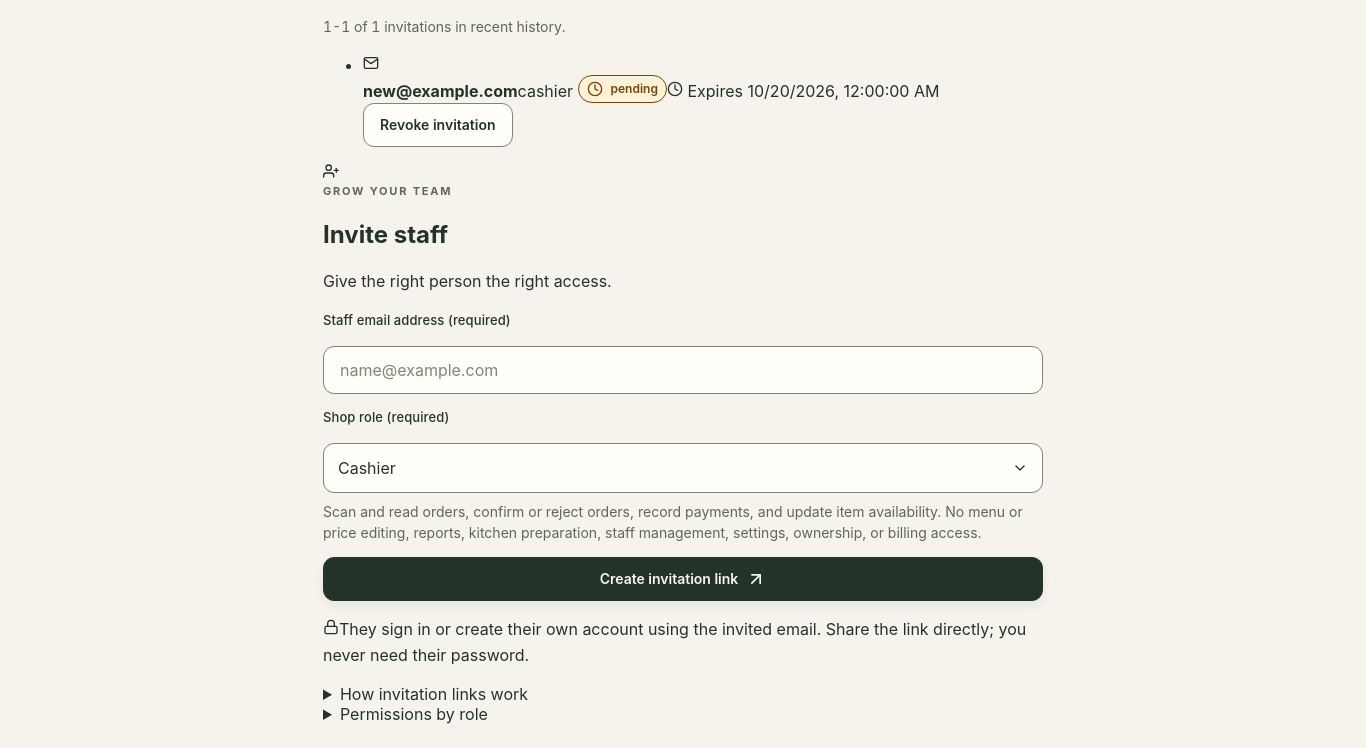
Test: creates a link for a normalized email and defaults to cashier
(page scrolled)
Step 1. Type " New@Example.com " into the field labelled "Staff email address" → (683, 370), box [323,346,1043,394]
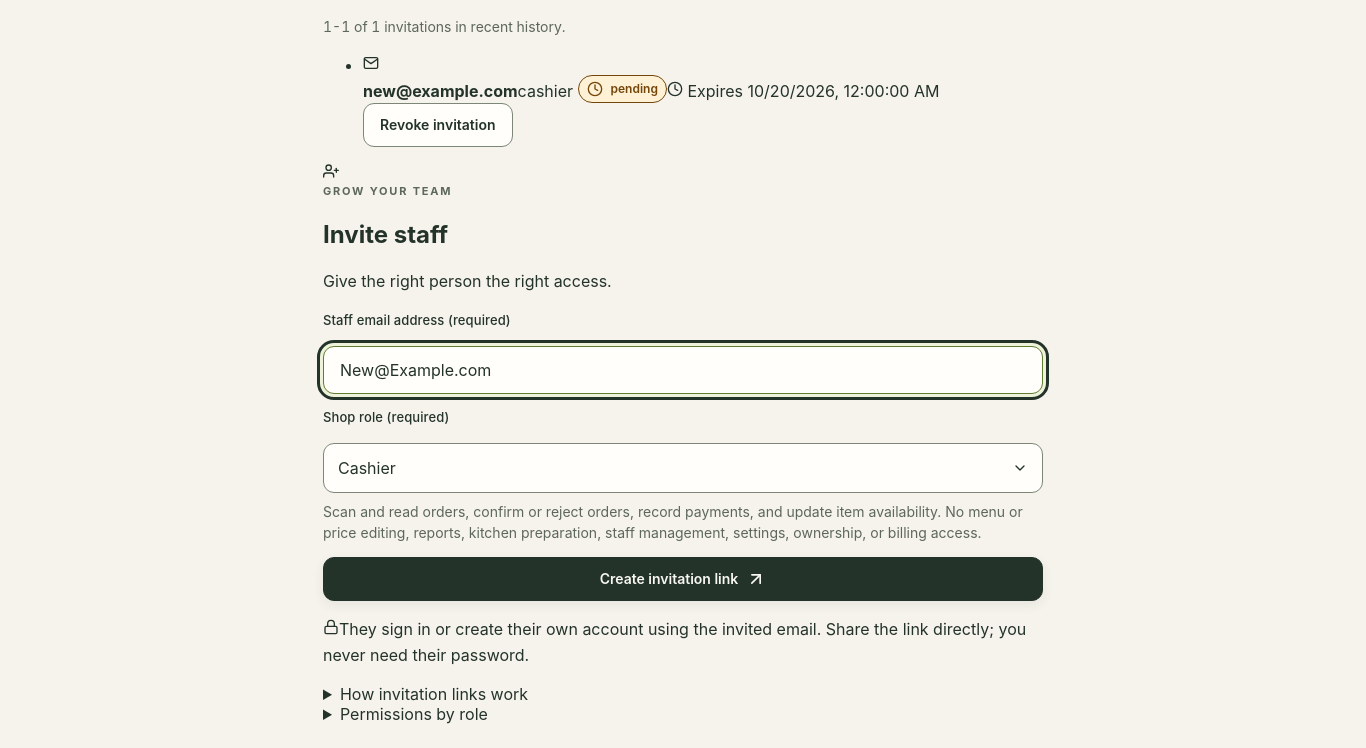
Step 2. Click the button "Create invitation link" → (683, 579), box [323,557,1043,601]
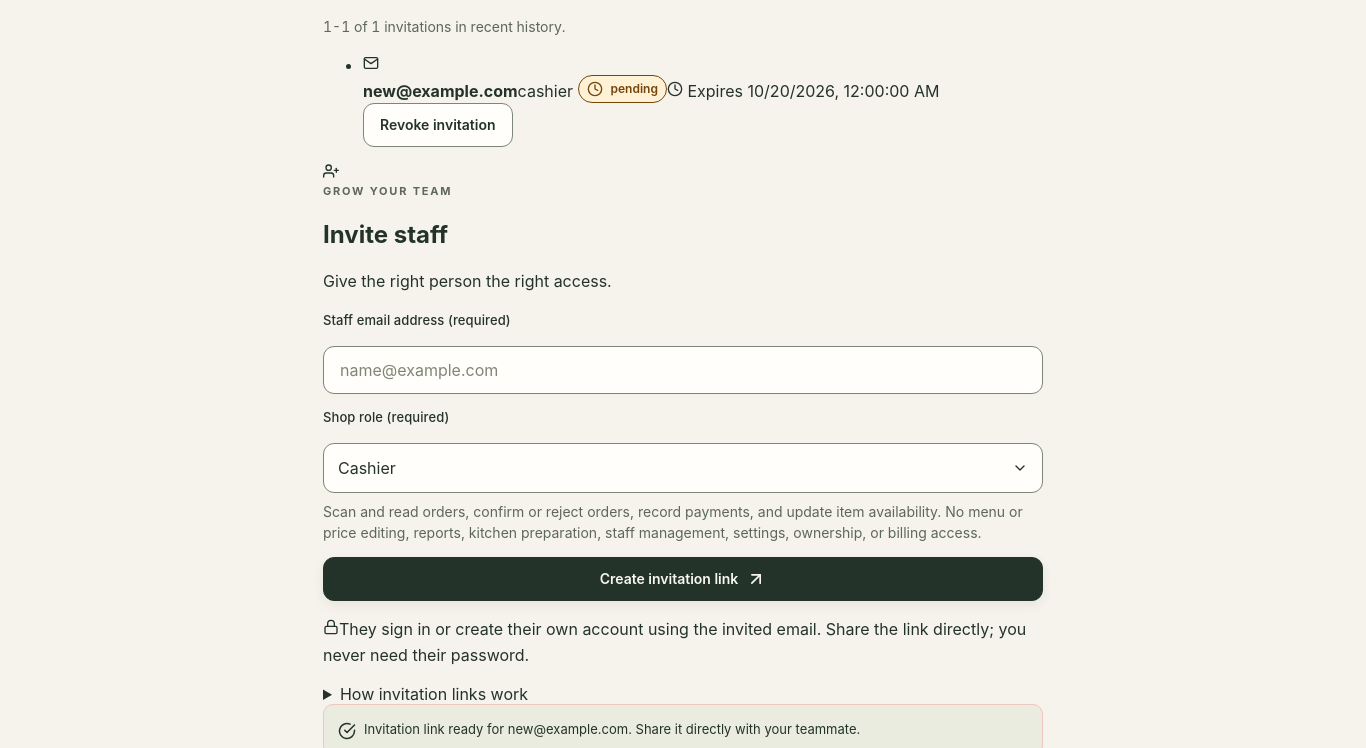
Step 3. Click the button "Revoke invitation" → (438, 124), box [363,102,512,146]
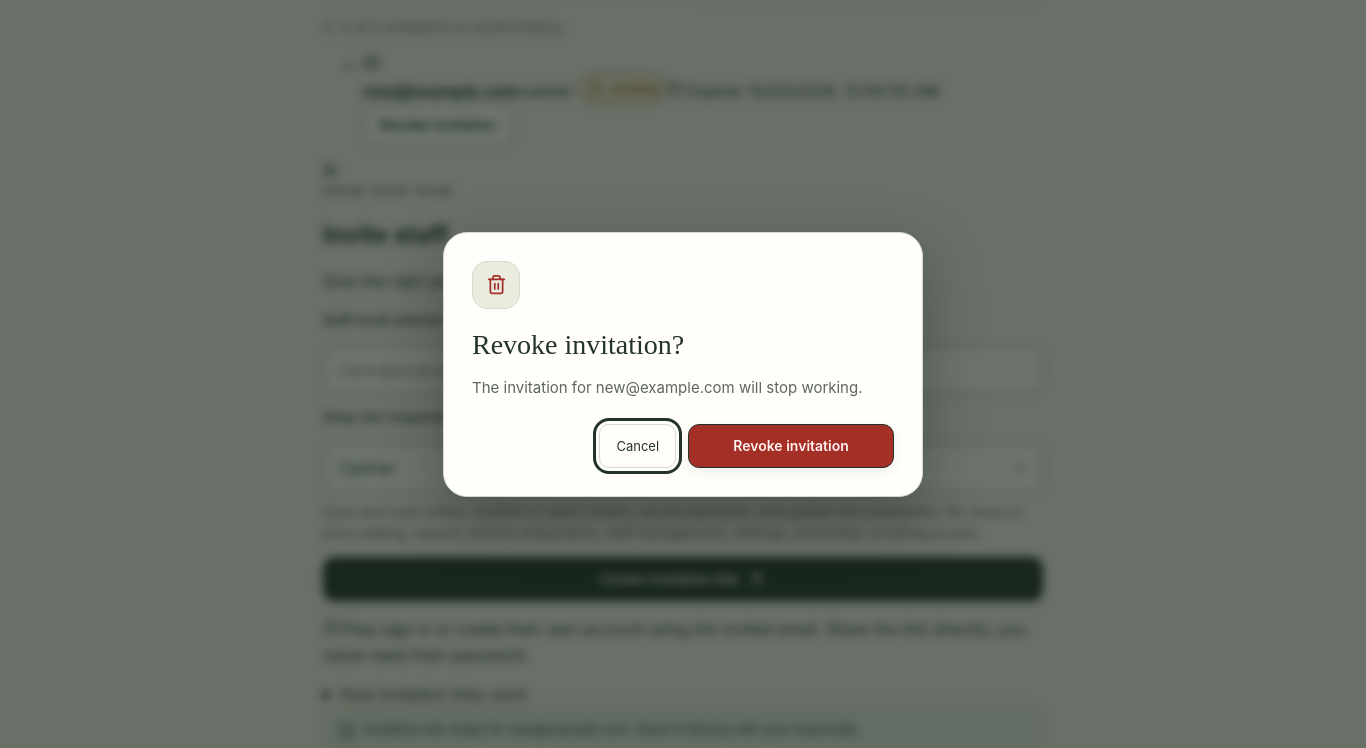
Step 4. Click the button "Revoke invitation" → (791, 446), box [688,424,894,468]
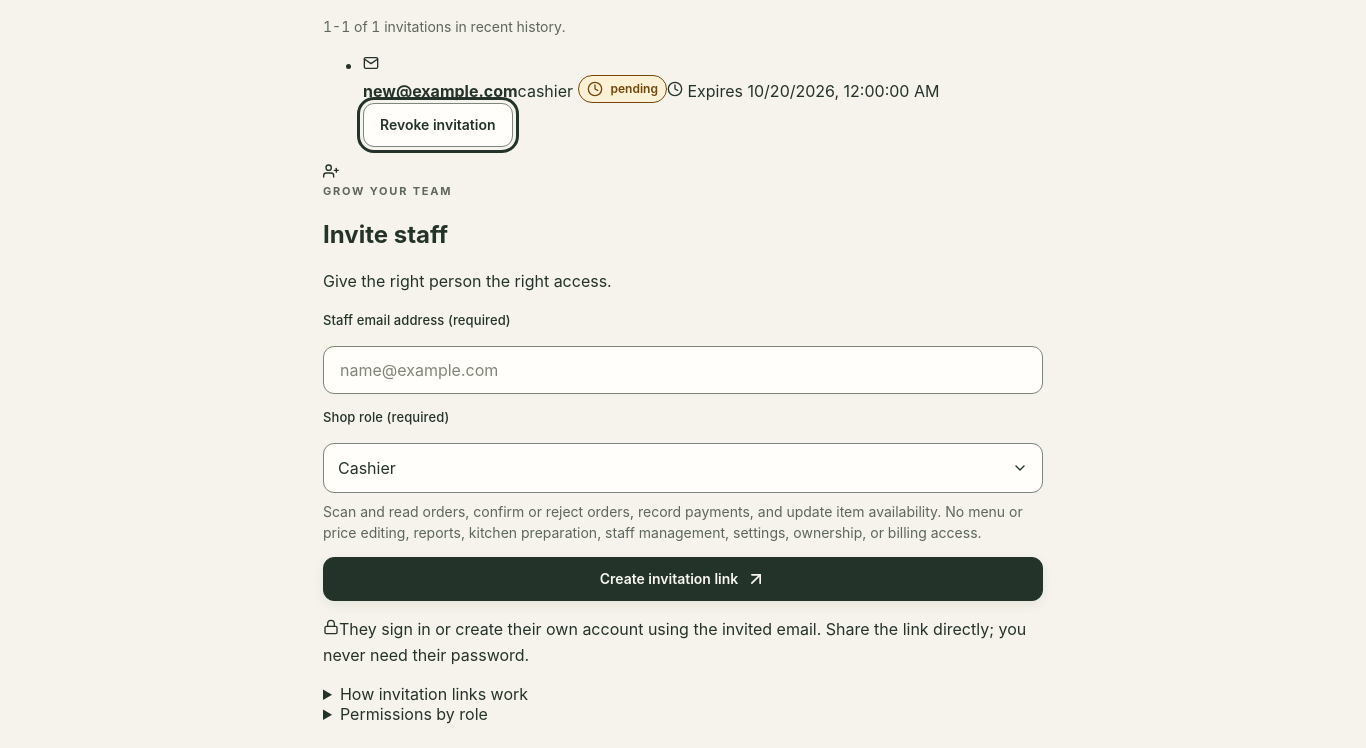
Expected: the text "Invitation link ready for" is gone
